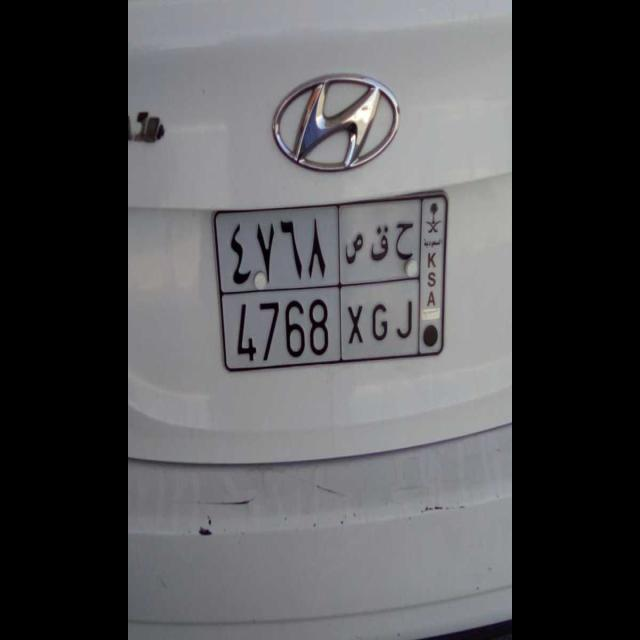license_plate: (222, 288, 422, 373)
